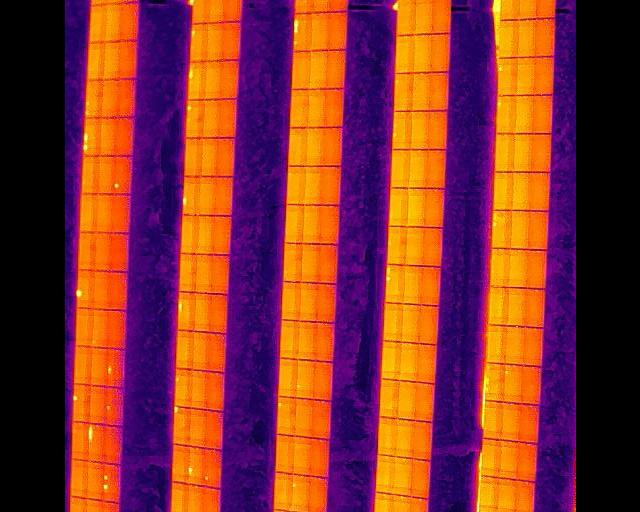Cell: (497, 57, 517, 96), (276, 396, 295, 435), (502, 364, 521, 403), (386, 226, 405, 265), (113, 155, 131, 195), (105, 348, 123, 388), (295, 360, 313, 399), (497, 95, 515, 134), (393, 72, 411, 111), (105, 387, 123, 426), (203, 448, 220, 488), (183, 176, 199, 216), (291, 475, 308, 512), (76, 271, 93, 308), (186, 446, 202, 485), (173, 406, 189, 445), (190, 25, 206, 62), (72, 385, 88, 422), (174, 368, 189, 406), (294, 0, 312, 14)
Cell-Multi: (82, 118, 100, 158), (485, 363, 503, 402), (392, 111, 410, 150), (492, 211, 510, 249), (385, 265, 403, 303), (102, 463, 119, 503), (186, 100, 202, 139), (85, 81, 101, 118)
No-Anomaly: (412, 382, 434, 422), (506, 249, 527, 288), (395, 381, 416, 420), (424, 149, 444, 189), (312, 361, 332, 401), (380, 342, 401, 380), (531, 96, 551, 135), (506, 288, 526, 327), (492, 172, 512, 211), (490, 249, 510, 288), (488, 288, 508, 327), (423, 188, 443, 227), (393, 420, 413, 459), (285, 167, 305, 205), (531, 134, 550, 174), (485, 325, 505, 363), (482, 402, 502, 440), (428, 34, 448, 72), (418, 305, 437, 345), (412, 421, 432, 459), (405, 187, 424, 227), (397, 343, 417, 381), (392, 457, 412, 495), (378, 380, 398, 418), (376, 419, 396, 457), (326, 13, 346, 51), (525, 288, 544, 328), (520, 366, 540, 404), (518, 405, 538, 443), (513, 96, 533, 134), (512, 133, 531, 173), (300, 283, 319, 322), (291, 52, 310, 91), (288, 128, 307, 167), (283, 243, 302, 282), (277, 359, 296, 398), (533, 56, 552, 95), (530, 174, 549, 213), (498, 20, 517, 59), (498, 440, 517, 479), (494, 133, 513, 172), (422, 228, 441, 267), (419, 267, 438, 306), (408, 111, 427, 150), (389, 150, 408, 189), (387, 187, 406, 226), (119, 3, 138, 42), (117, 80, 136, 119), (111, 194, 130, 233), (94, 194, 113, 233), (205, 371, 223, 412), (203, 409, 221, 450), (305, 128, 324, 166), (504, 327, 523, 365), (417, 344, 436, 382), (410, 460, 429, 498), (382, 303, 401, 341), (374, 456, 393, 494), (327, 51, 346, 89), (522, 328, 541, 366), (517, 444, 536, 482), (302, 243, 320, 283), (297, 321, 315, 361), (280, 320, 298, 360), (528, 210, 546, 250), (410, 72, 428, 112), (309, 50, 327, 90), (281, 283, 300, 320), (534, 19, 553, 56), (480, 440, 499, 477), (308, 90, 326, 129), (275, 434, 293, 473), (222, 22, 240, 61), (208, 294, 226, 333), (427, 111, 445, 150), (413, 34, 431, 73), (407, 149, 425, 188), (404, 228, 422, 267), (394, 35, 412, 74), (321, 166, 339, 205), (319, 244, 337, 283), (512, 172, 530, 211), (412, 0, 432, 35), (313, 399, 330, 440), (302, 206, 320, 244), (295, 399, 313, 437), (290, 90, 308, 128), (284, 205, 302, 243), (273, 473, 291, 511), (219, 61, 237, 99), (501, 403, 519, 441), (403, 266, 421, 304), (400, 304, 418, 342), (326, 89, 344, 127), (527, 250, 545, 288), (106, 311, 124, 349), (75, 309, 93, 347), (517, 20, 535, 58), (515, 57, 533, 95), (293, 436, 310, 476), (210, 255, 227, 295), (318, 283, 335, 323), (316, 322, 333, 362), (110, 233, 127, 273), (74, 346, 91, 386), (119, 42, 137, 79), (116, 118, 134, 155), (308, 477, 327, 512), (217, 99, 234, 138), (207, 333, 224, 372), (199, 138, 216, 177), (195, 215, 212, 254), (320, 205, 337, 244), (175, 330, 192, 369), (100, 80, 117, 119), (71, 422, 88, 461), (70, 457, 86, 498), (478, 476, 496, 512), (397, 0, 415, 36), (215, 138, 232, 176), (430, 0, 449, 34), (428, 73, 445, 111), (324, 128, 341, 166), (311, 439, 328, 477), (107, 273, 124, 311), (102, 43, 119, 81), (97, 156, 114, 194), (81, 156, 98, 194), (77, 234, 94, 272), (510, 211, 527, 249), (198, 177, 214, 217), (194, 254, 210, 294), (188, 408, 204, 448), (103, 3, 119, 43), (496, 479, 515, 512), (214, 176, 230, 215), (213, 215, 229, 254), (206, 23, 222, 62), (202, 100, 218, 139), (178, 253, 194, 292), (171, 444, 187, 483), (99, 117, 115, 156), (95, 233, 111, 272), (90, 309, 106, 348), (90, 348, 106, 387), (79, 194, 95, 233), (190, 331, 205, 372), (184, 139, 200, 177), (311, 13, 327, 51), (91, 272, 107, 310), (86, 461, 102, 499), (89, 387, 105, 424), (305, 167, 320, 206), (189, 370, 204, 409), (106, 425, 121, 464), (87, 43, 102, 81), (515, 481, 533, 512), (181, 216, 196, 253), (88, 6, 103, 43), (204, 62, 218, 100), (194, 293, 208, 331), (201, 486, 219, 512), (170, 483, 186, 512), (186, 484, 201, 512), (535, 0, 555, 20), (499, 0, 518, 21), (517, 0, 536, 21), (224, 0, 242, 22), (192, 0, 207, 25), (207, 0, 223, 23), (373, 493, 392, 512), (392, 495, 410, 512), (408, 497, 427, 512), (327, 0, 347, 13), (69, 496, 85, 512), (311, 0, 328, 14), (85, 499, 102, 512), (101, 501, 118, 512)
Unclassified: (292, 14, 311, 52), (87, 424, 105, 462), (176, 291, 193, 330), (186, 62, 203, 100)
